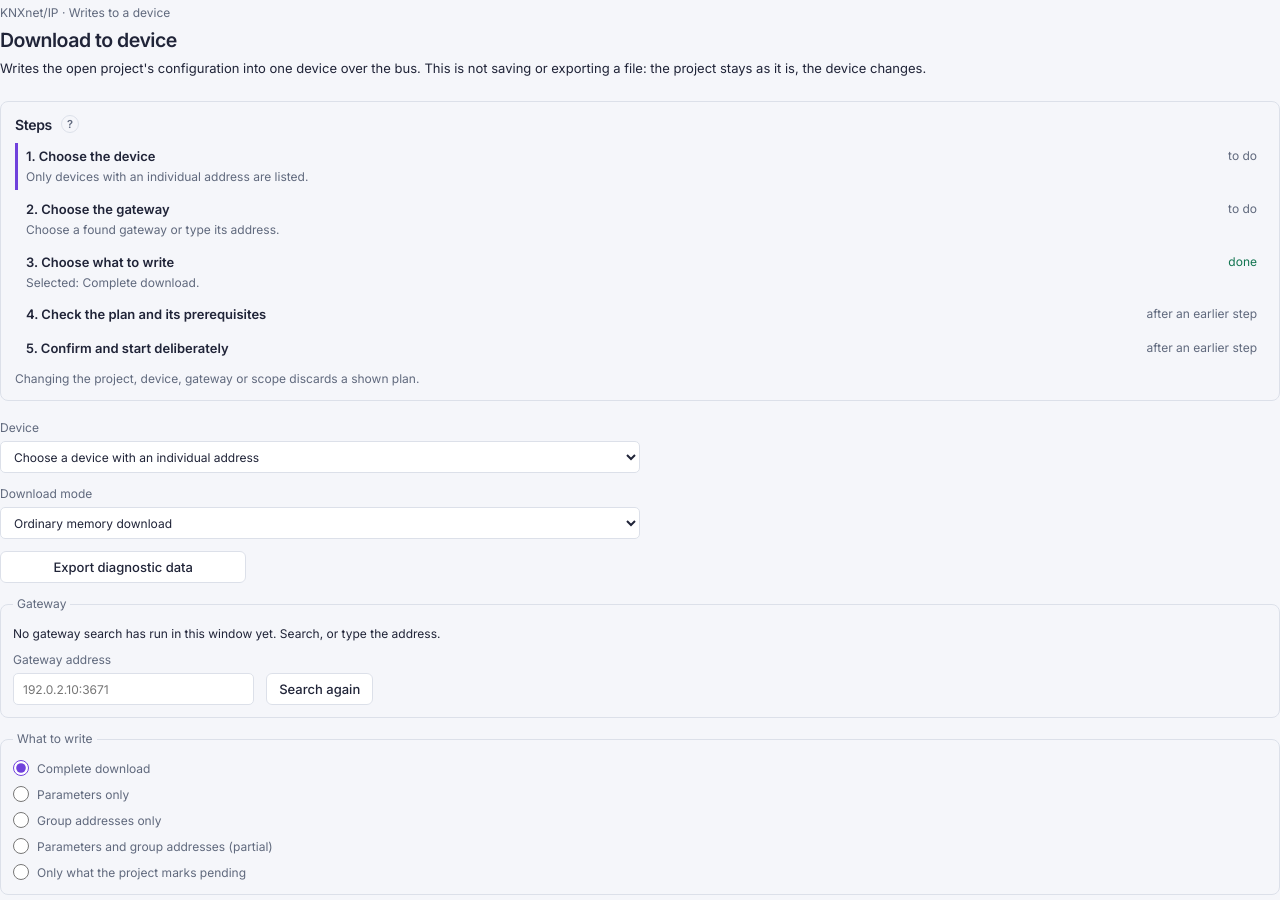
shows an explicit plan without advice it cannot trust
Select "1.1.67 — Push button 2-fold" in the dropdown labelled "Device" at coordinates (320, 457), box [0,441,640,473]
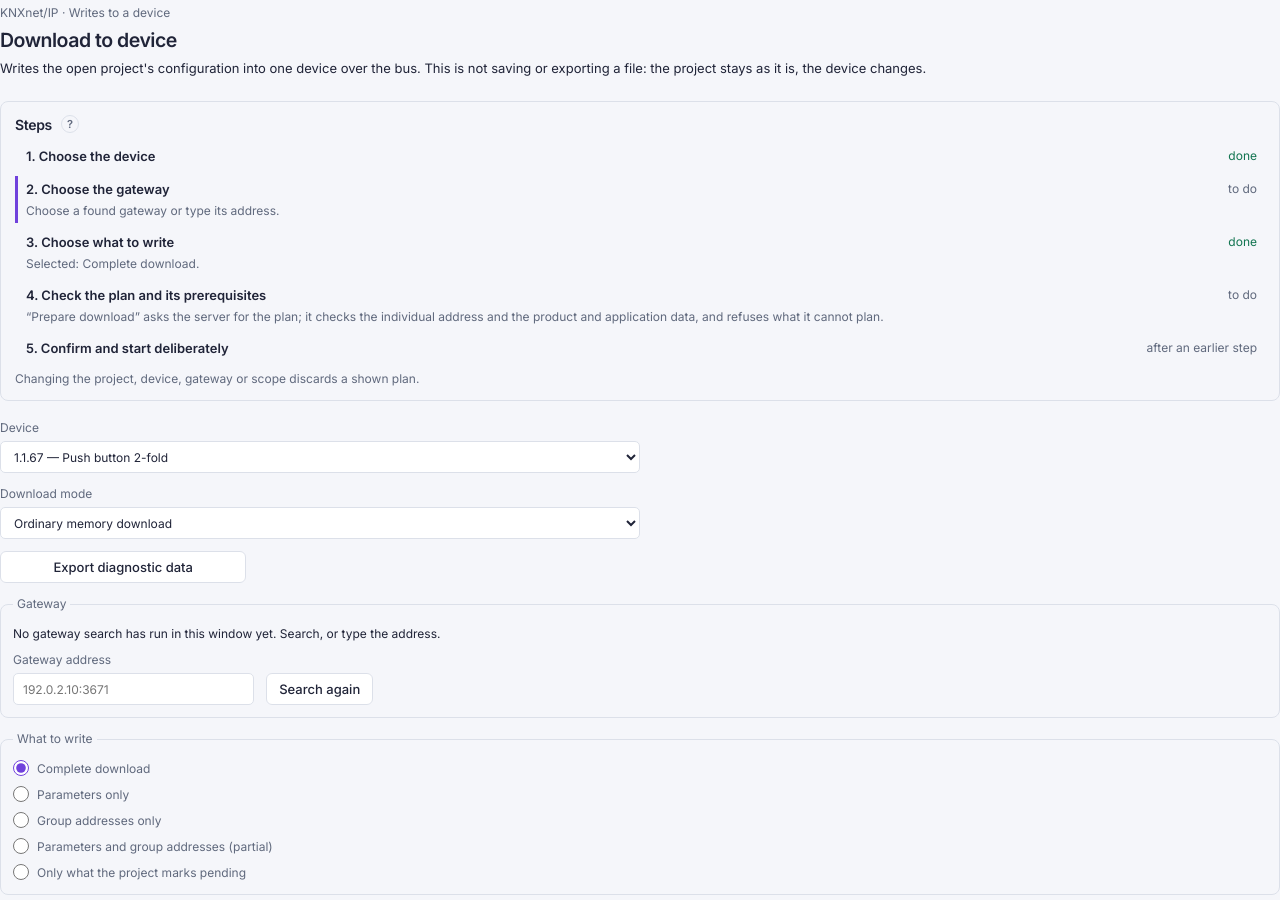
Click the radio button labelled "Complete download" at coordinates (21, 768), box [13,760,29,776]
(page scrolled)
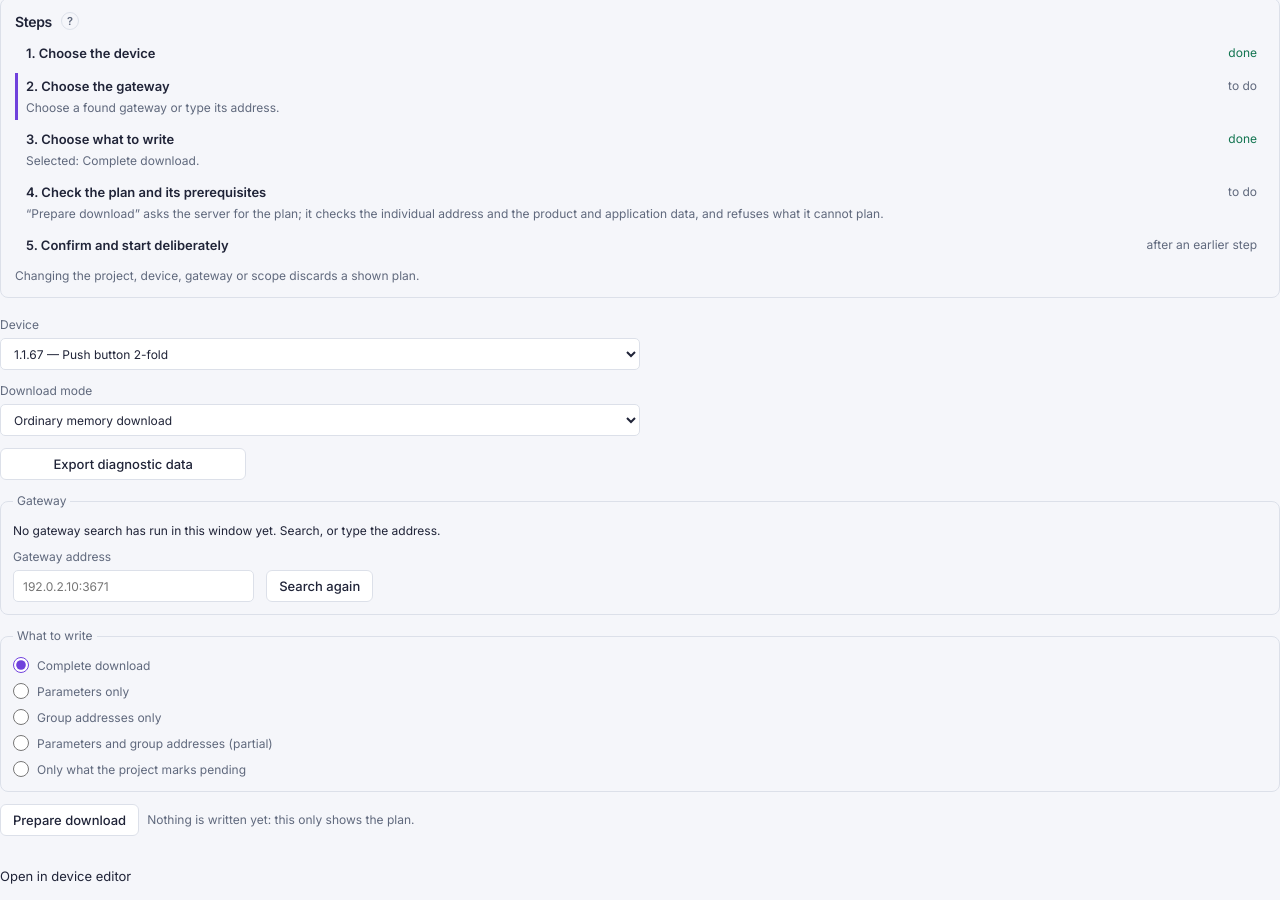
Click the button "Prepare download" at coordinates (70, 820), box [0,804,139,836]
(page scrolled)
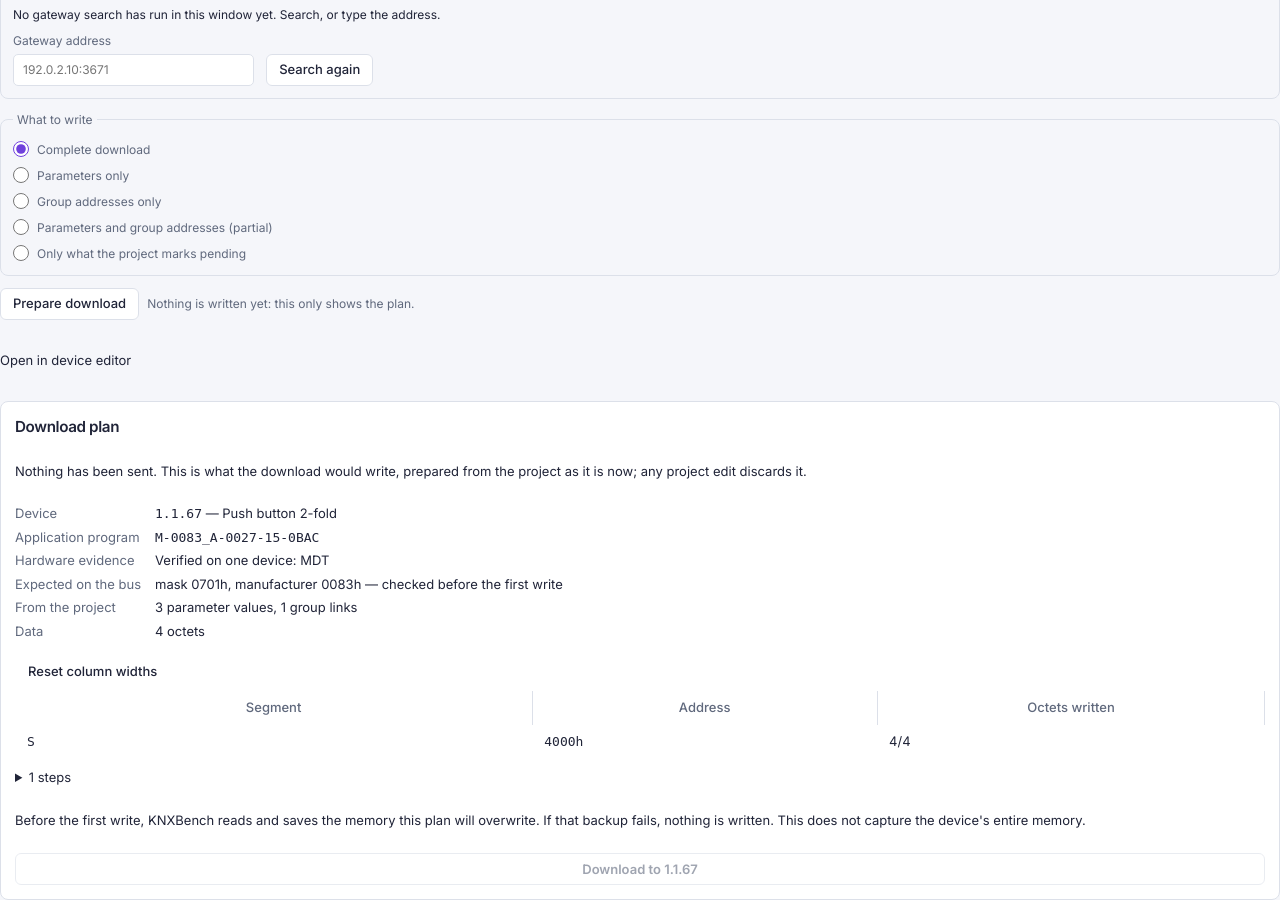
Expected: the element with class "device-download-plan" is shown, [0,401,1279,899]
